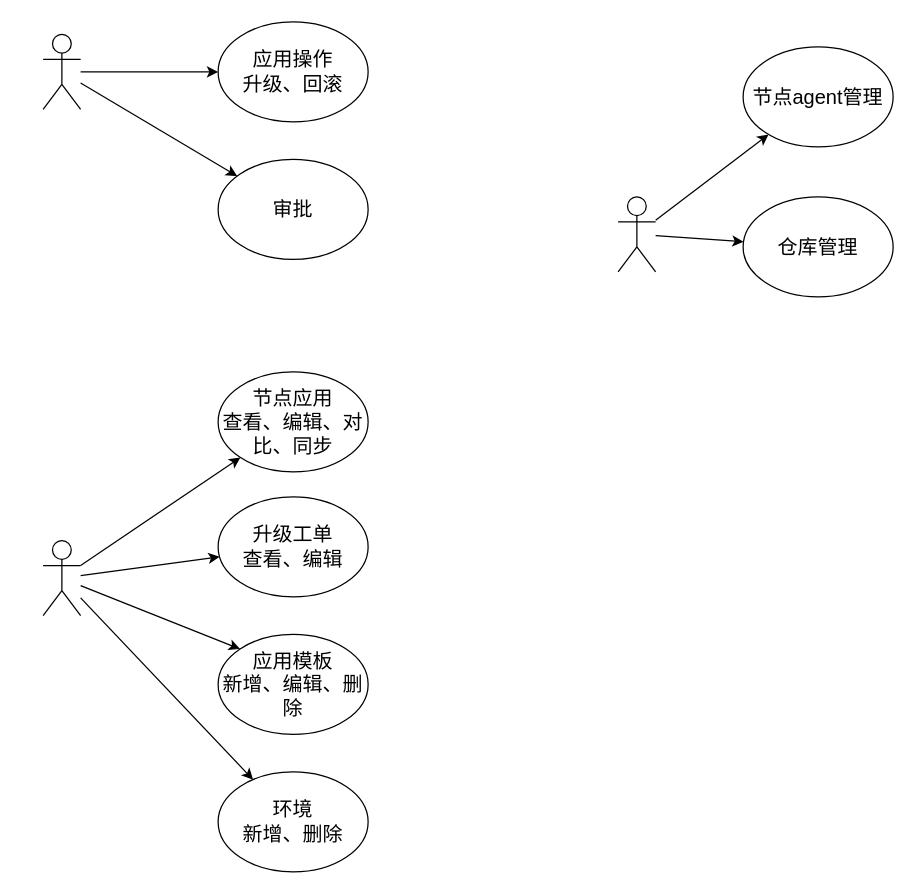
Some shapes in this 915 by 894 pixel diagram are drawn without their labels. The shapes that lost their labels are listed below. From the top down, each one's centre as x and y in pixels, then its label:
the point at 61,71: 运维人员
the point at 636,234: 系统管理员
the point at 61,577: 升级人员
